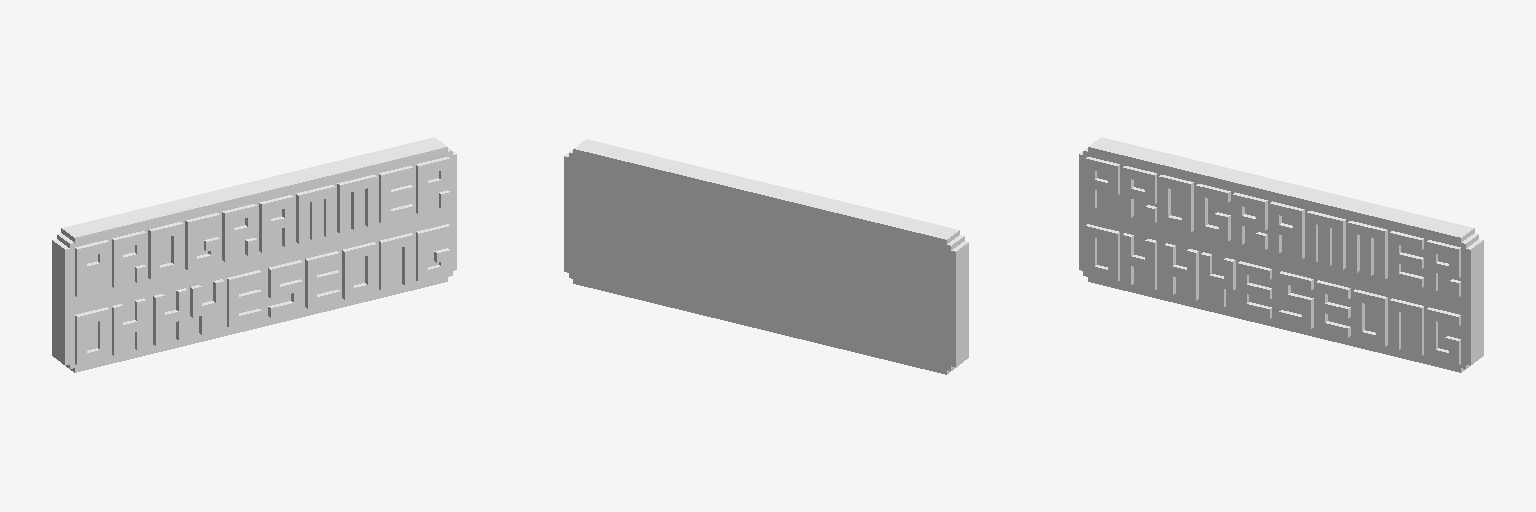
File: Credit_Inform_OHS.obj
3 renders of one model, left to right at view 1: azimuth 30°, elevation 25°; view 2: azimuth 150°, elevation 25°; view 3: azimuth 330°, elevation 25°, orthographic.
Size of the model in its own units: 85 by 28 by 6.